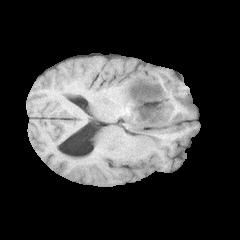glioma: (116, 72, 175, 133)
